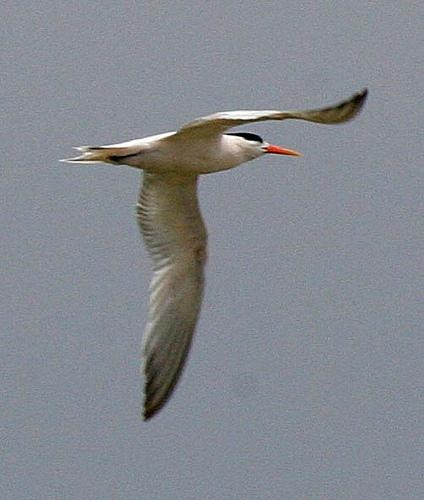bird: (69, 80, 374, 424)
